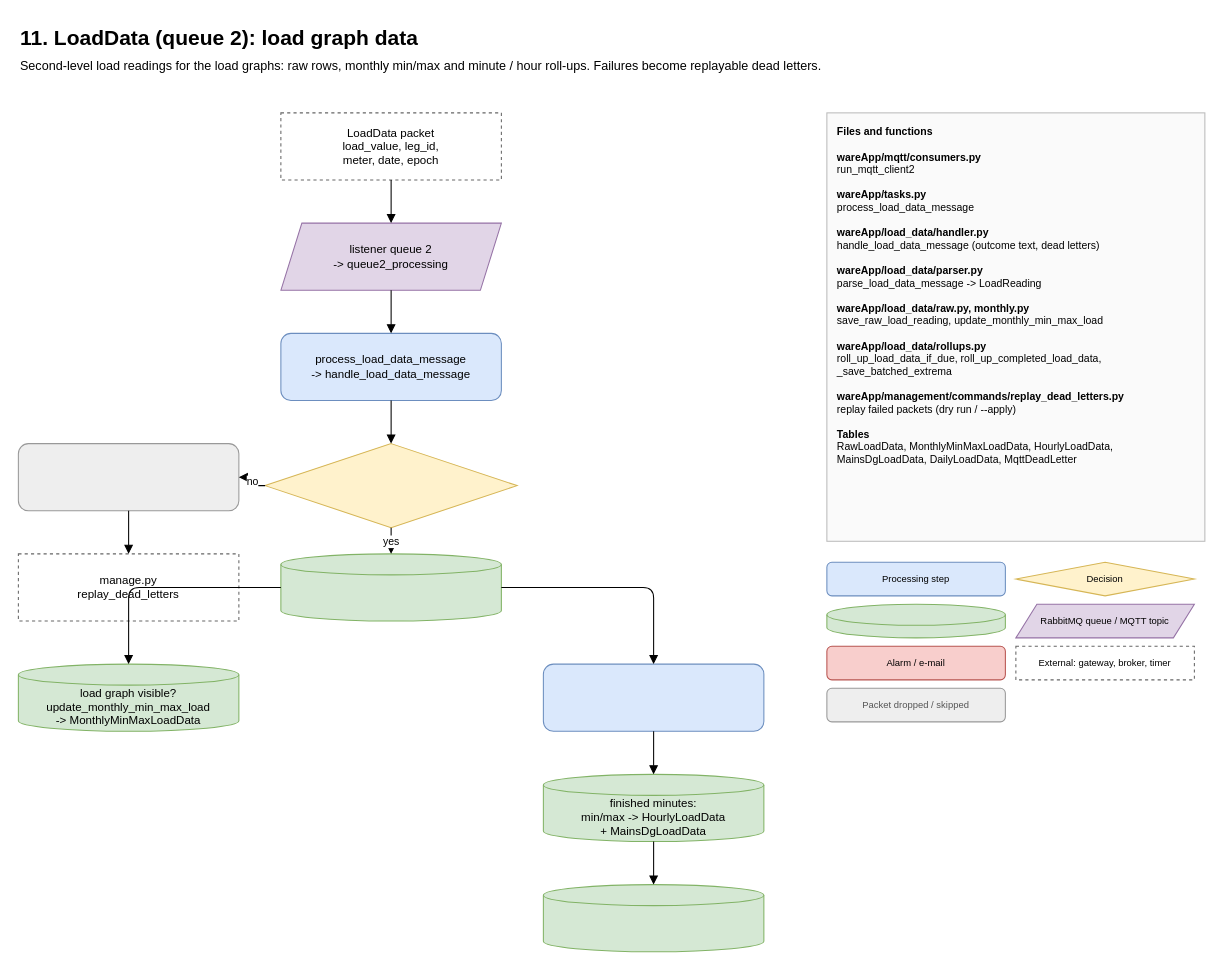
Image size: 1223x970. Some labels were removed from this diagram. The shapes that lost their labels are listed below. From the top down, each one's box as (x1, y1, x2, y2) in pixels, then its label:
(17, 443, 239, 511): error: transient DB -> retry; others -> MqttDeadLetter 'LoadData'
(264, 443, 517, 528): aisle group for leg?
(280, 553, 501, 621): RawLoadData (one row per reading)
(826, 603, 1005, 638): Database table
(542, 663, 764, 731): roll_up_load_data_if_due (once per site per minute)
(542, 884, 764, 952): finished hours: min/max -> DailyLoadData
